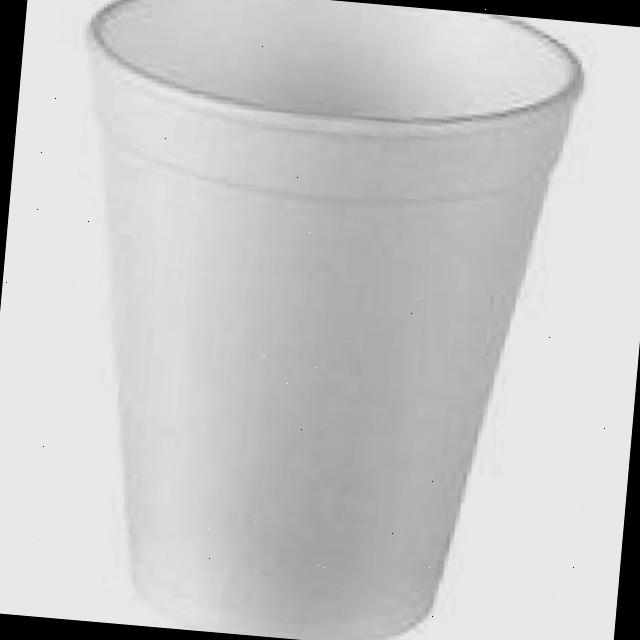trash: (34, 0, 584, 640)
